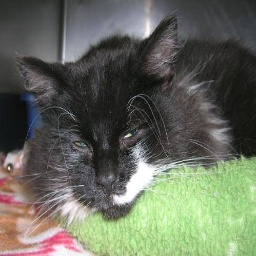cat: (13, 15, 255, 218)
